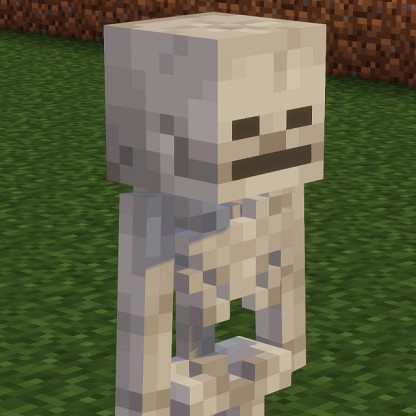skeleton: (98, 5, 337, 326)
